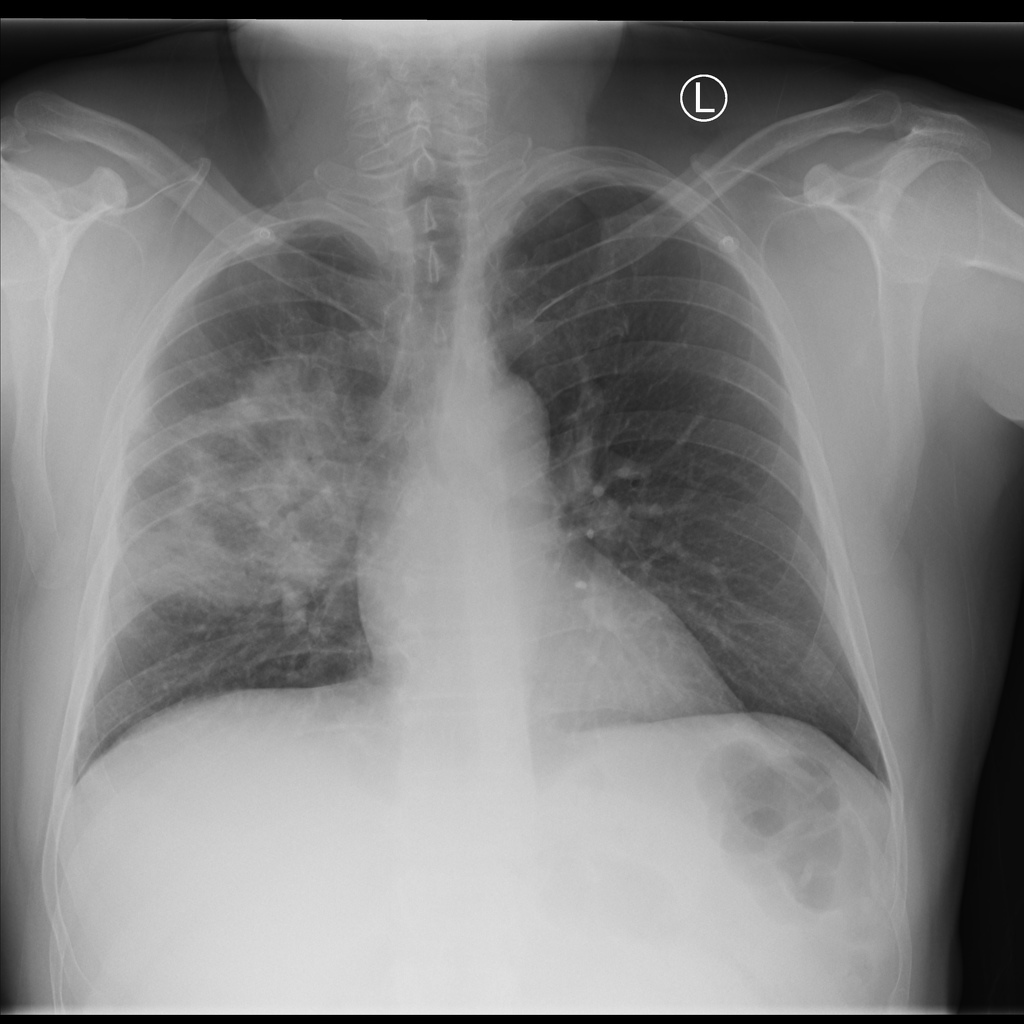cancer: (101, 253, 366, 732)
